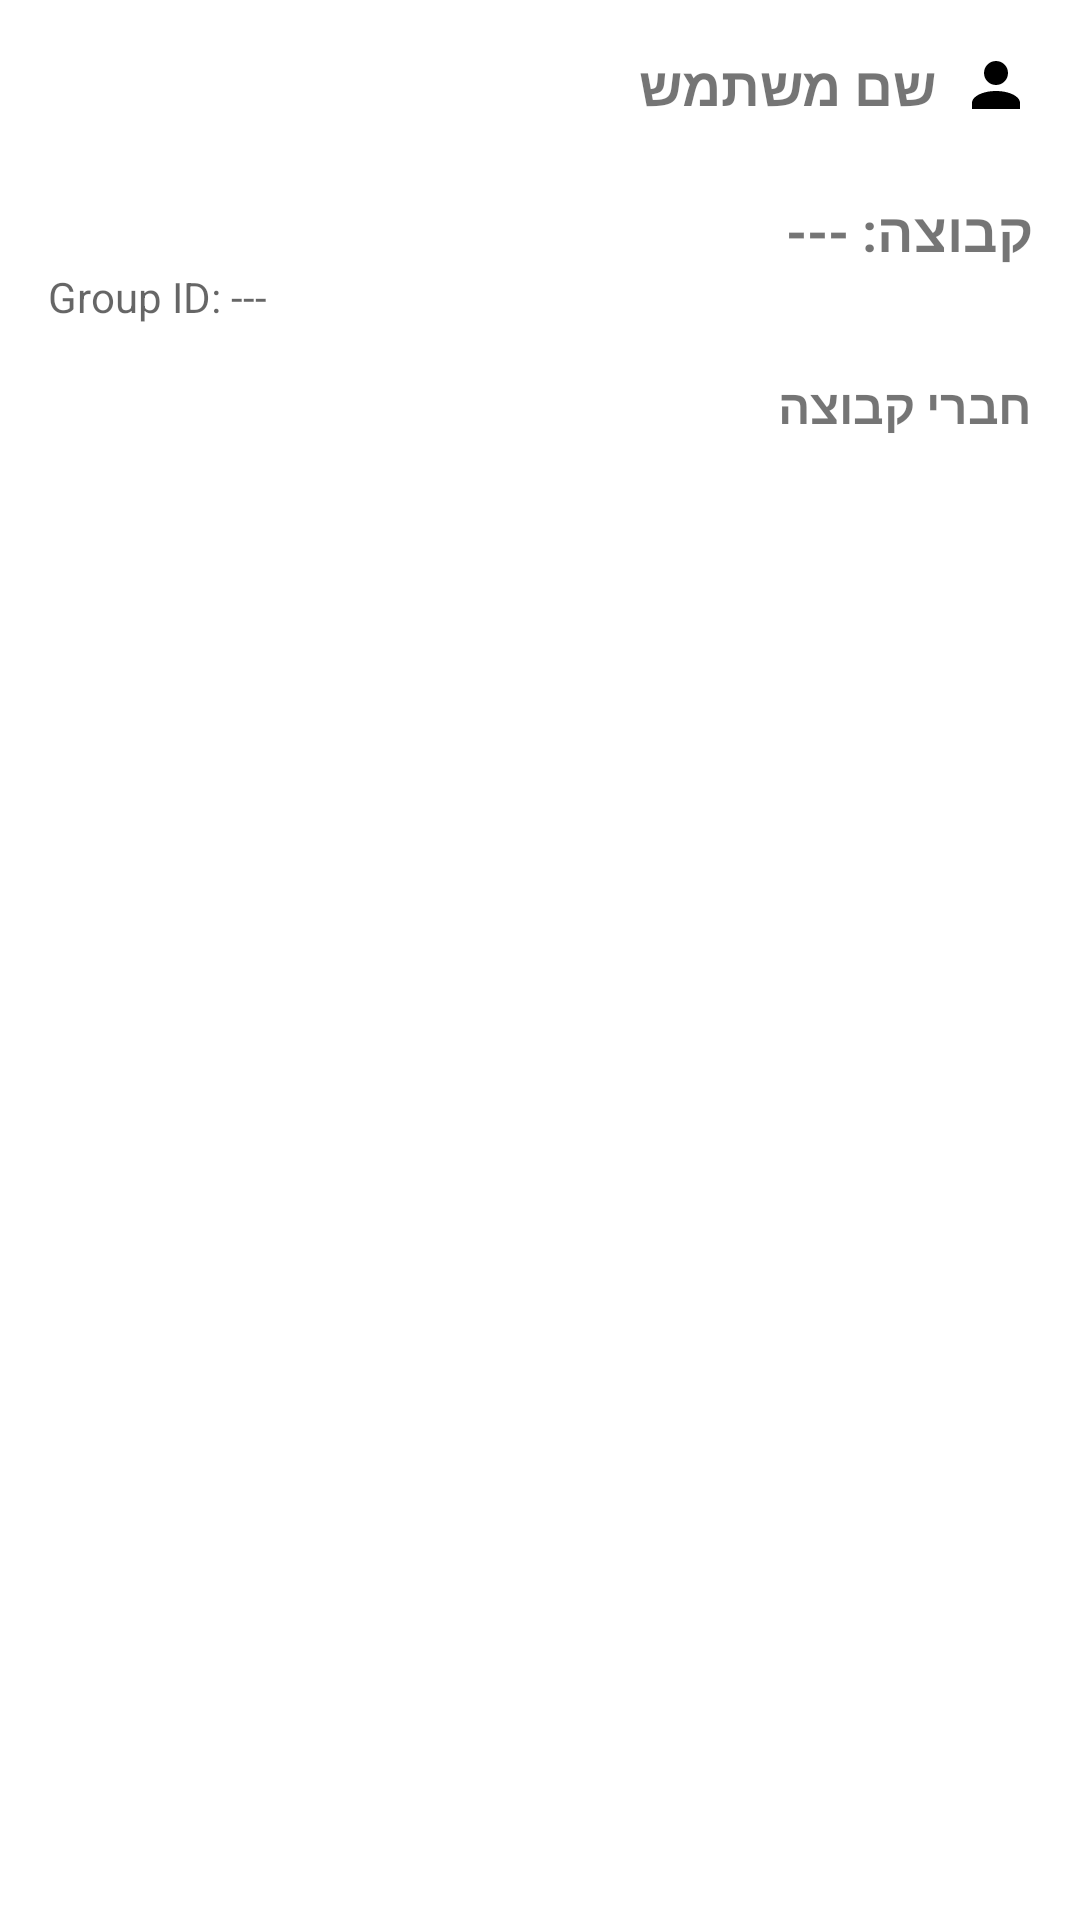

Icon click points for this 1080 x 1920 phone screenshot, format point (x, y):
profile: point (996, 85)
